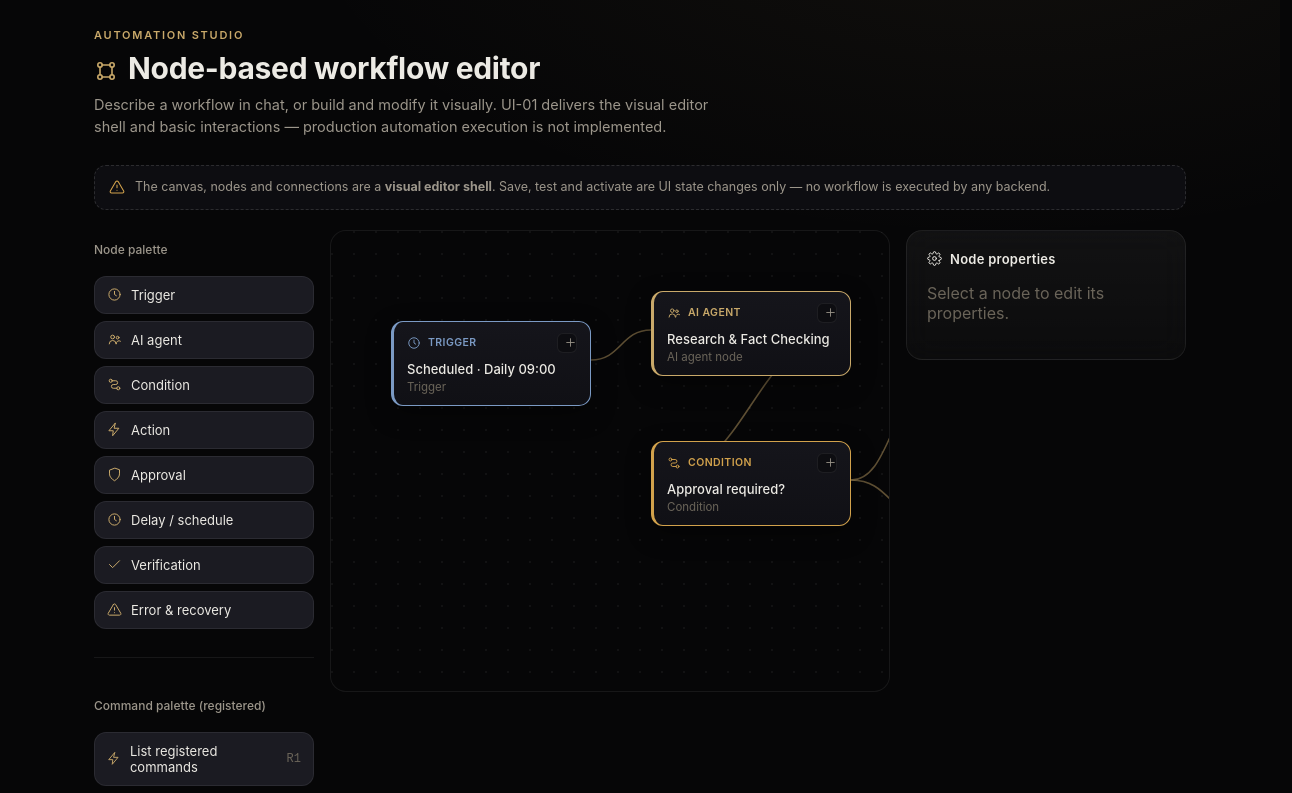
Automation Studio › adds a node from the palette and selects it
The image size is (1292, 793).
Step 1. Click the button "Action" → point(204, 430), box [94, 411, 314, 449]
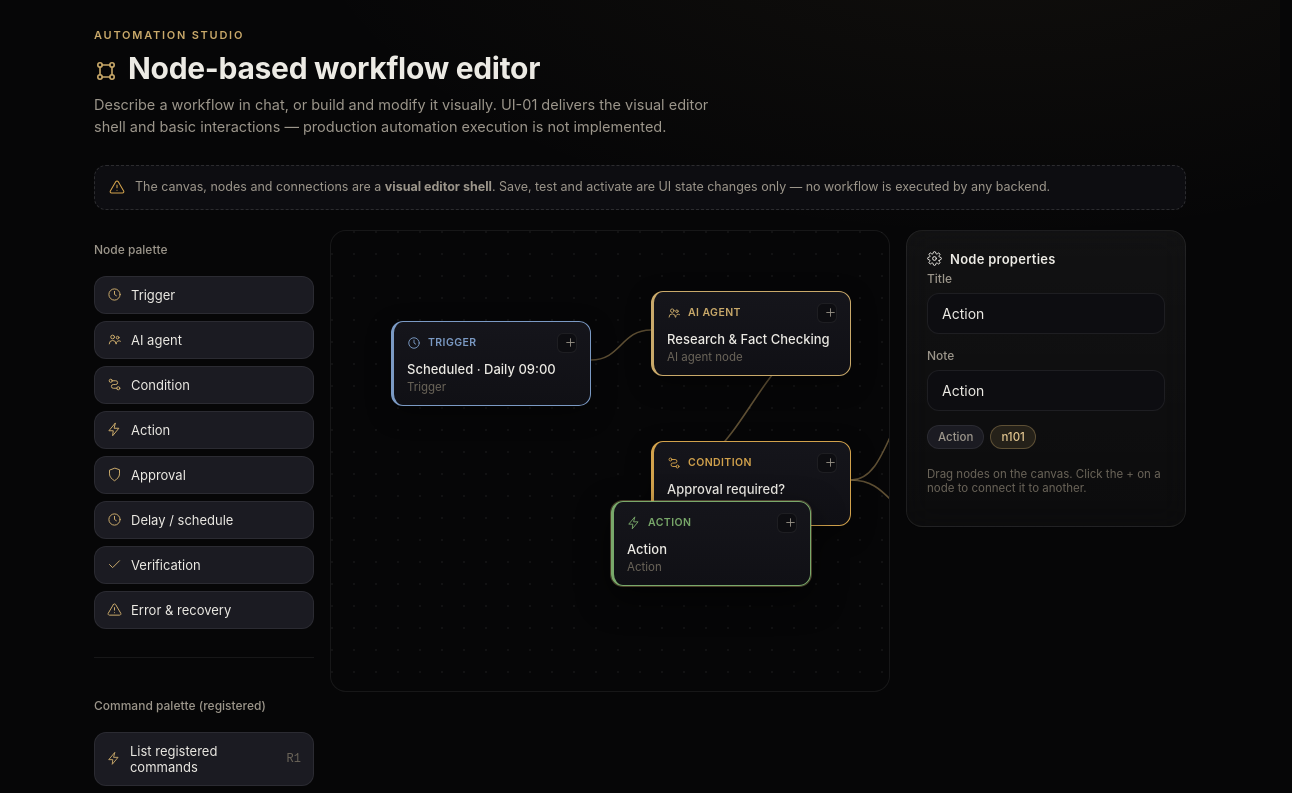
Expected: the field showing "Action" below "Title" is shown, [927, 293, 1165, 334]
